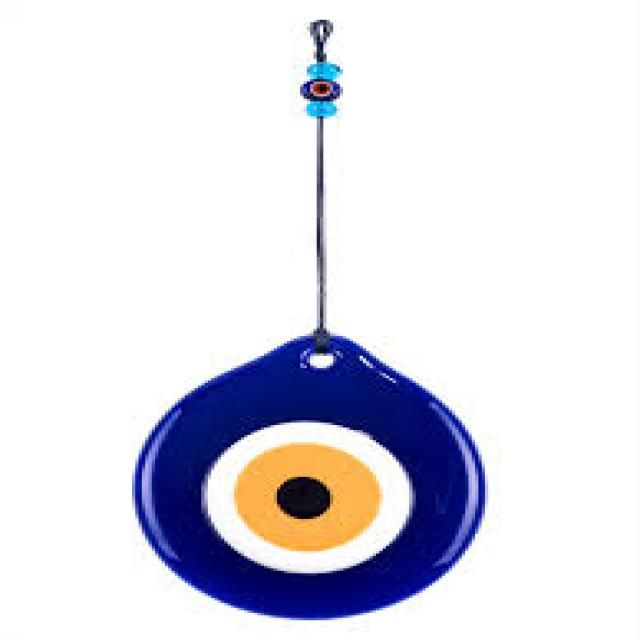Nazar-Boncugu: (132, 17, 488, 618)
